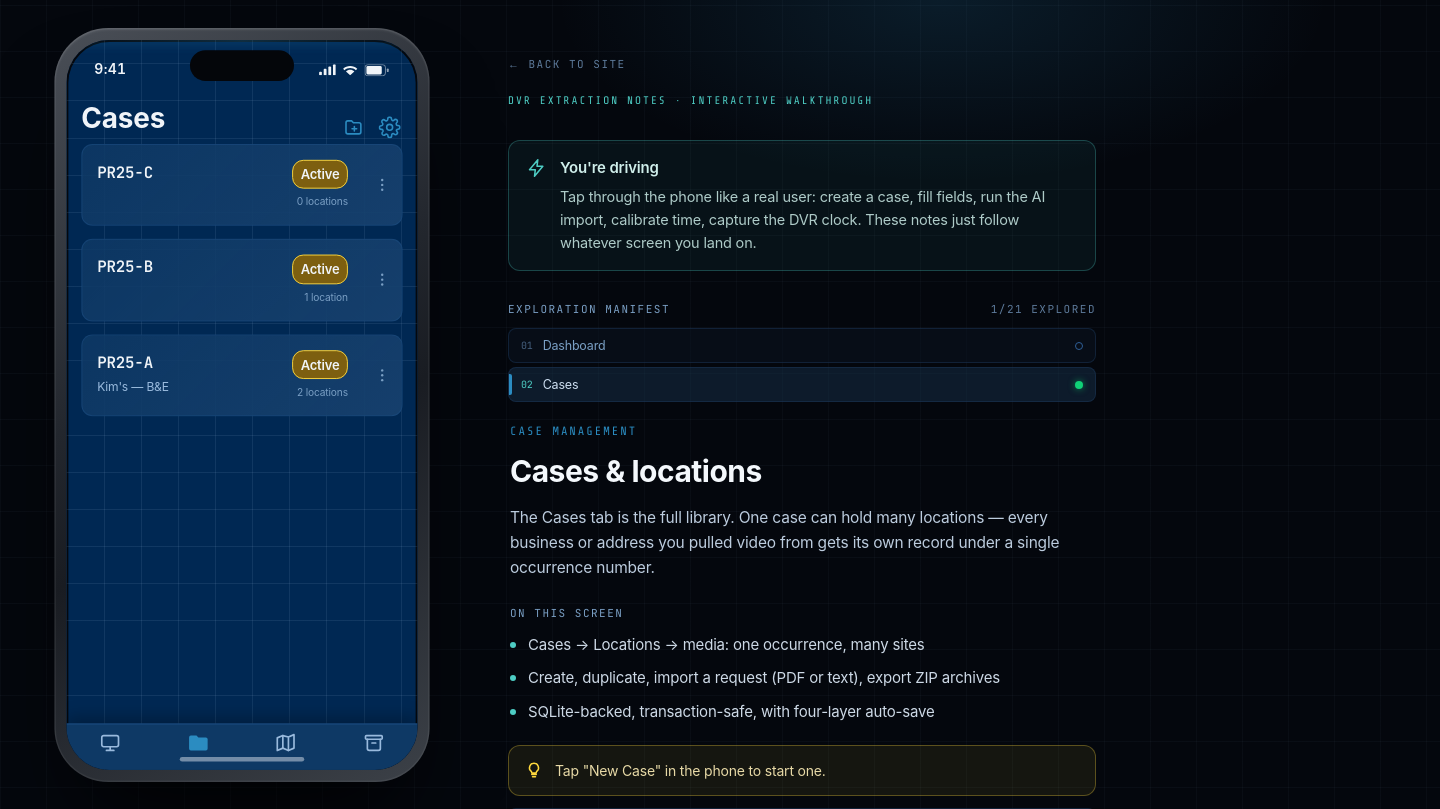
DemoExperience — delete a case › omits the cascade warning for a case with no locations
Click the button named "Actions for case PR25-C".
click(382, 185)  # box [363,145,402,225]
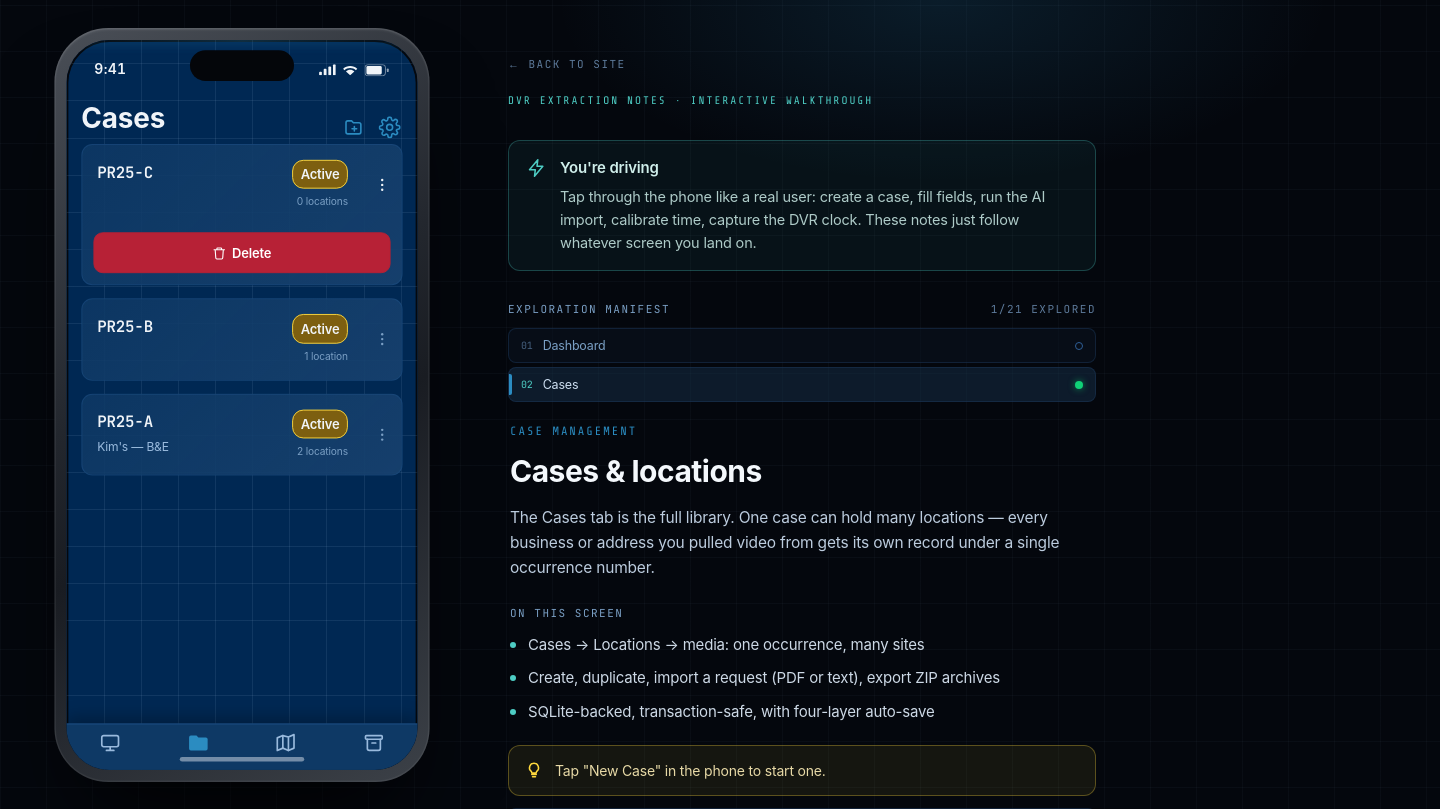
Click the button "Delete".
click(242, 253)  # box [93,233,390,274]
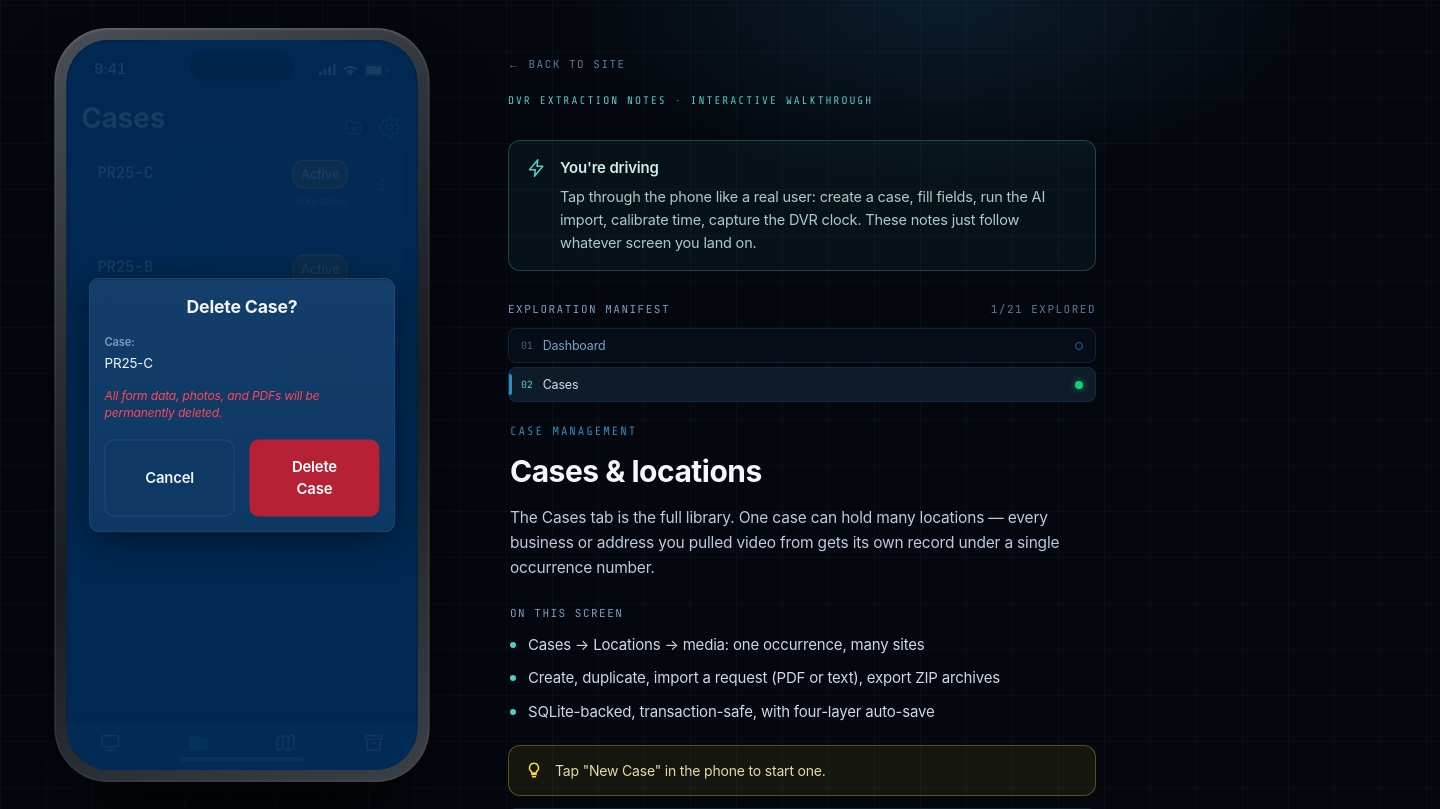
Check: the text "Delete Case?" is shown, box [186,296,298,318]
Check: the text "All form data, photos, and PDFs will be permanently deleted." is shown, box [105,387,320,420]
